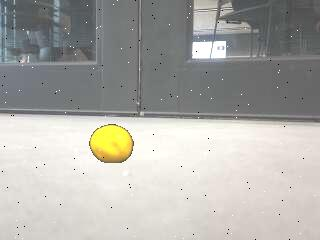Lemon: (89, 124, 134, 164)
